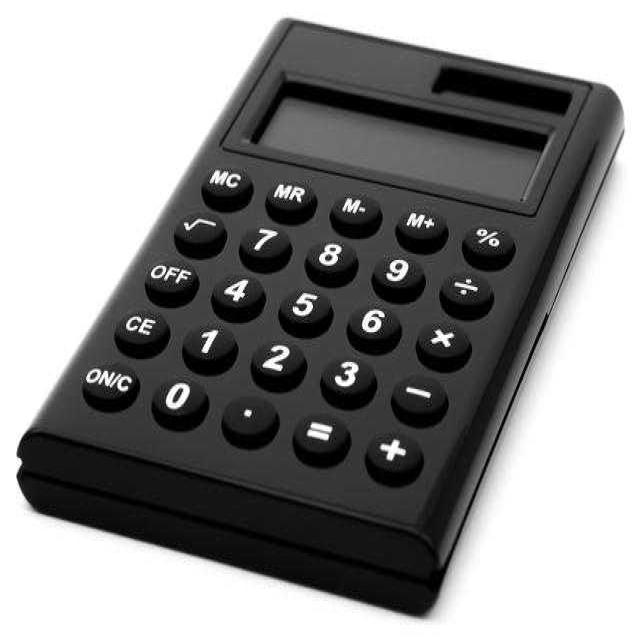Calculator: (15, 13, 625, 616)
